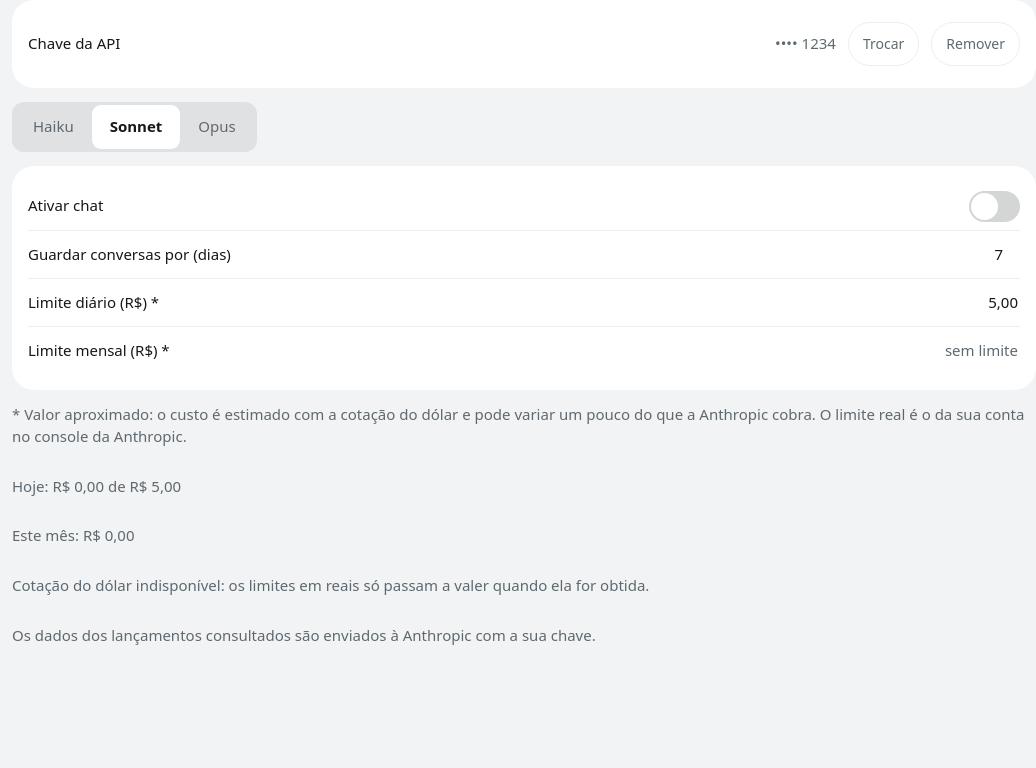
Test case: Assistant screen › the save chip only appears once the value changed
The image size is (1036, 768).
Check: the button "Salvar limite diário" is not shown
In the field labelled "Limite diário (R$) *": (733, 302) [447,291,1020,314], type "1"
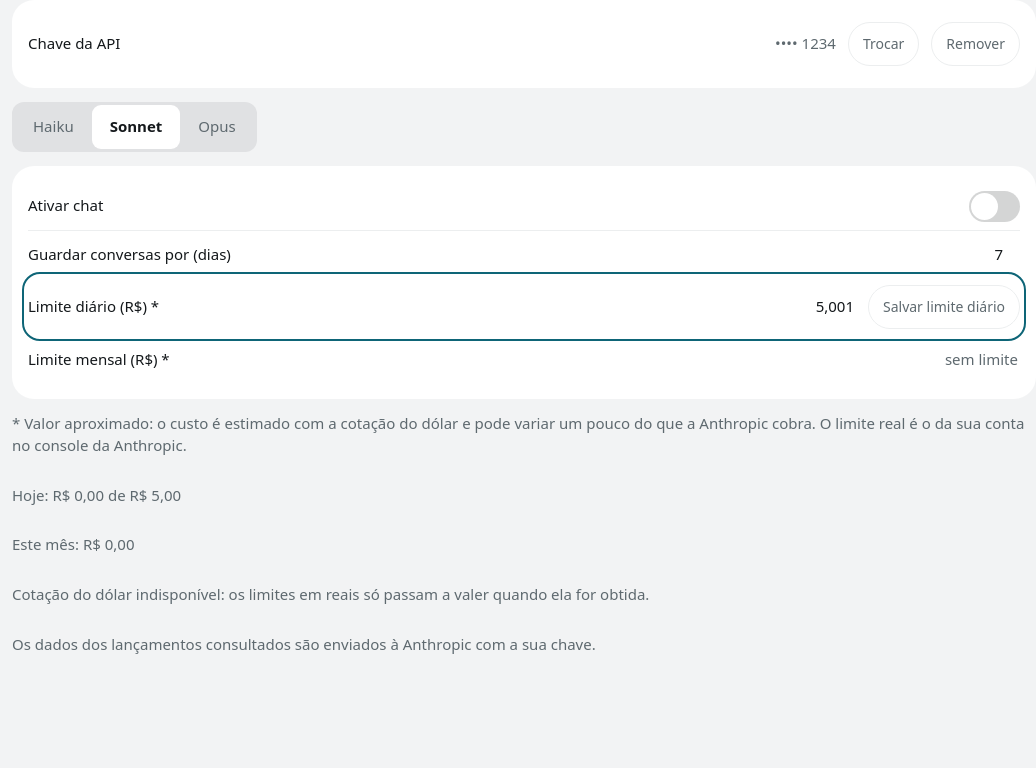
Check: the button "Salvar limite diário" is shown, box [868,285,1020,329]
